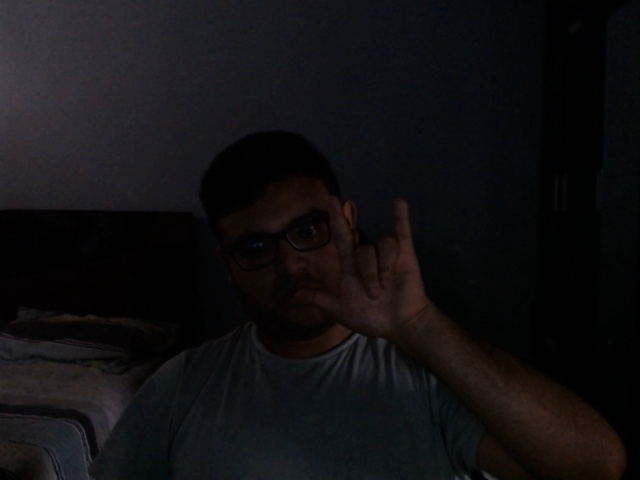I love you: (289, 195, 436, 351)
